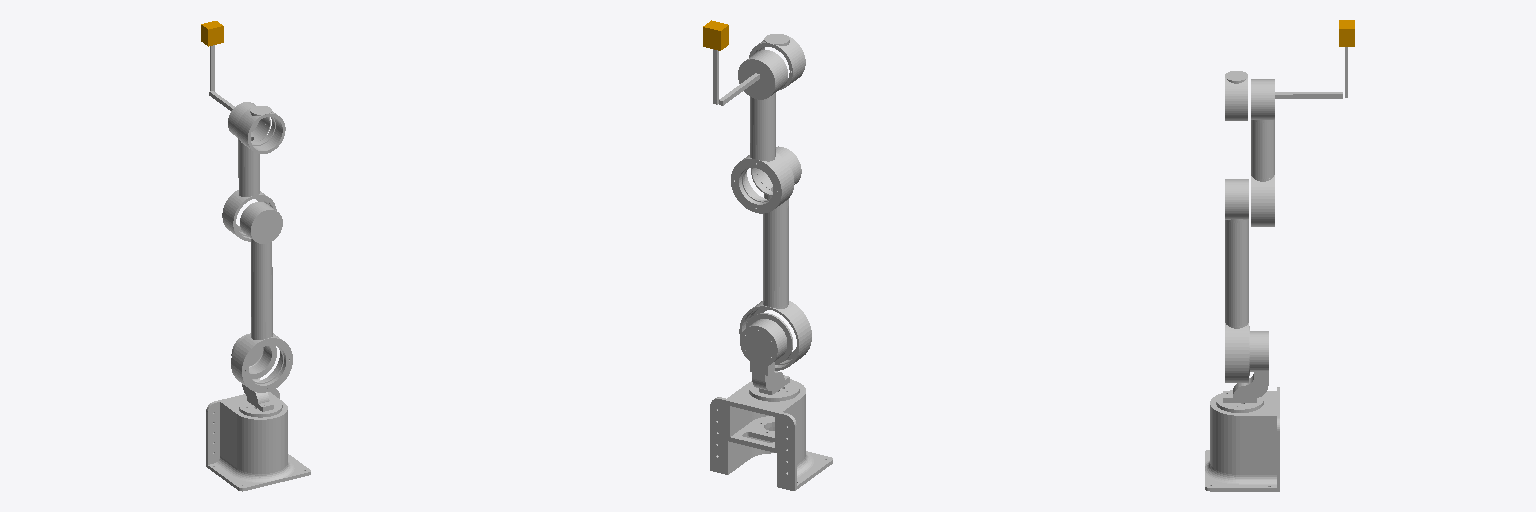
URDF robot description (rover_arm):
<?xml version="1.0"?>
<robot name="rover_arm">
  <material name="mat_silver">
    <color rgba="0.8 0.8 0.8 1"/>
  </material>

  <link name="world" />
  <link name="base_link">
    <visual>
      <origin xyz="0 0 0.08" rpy="0 0 0"/>
      <geometry>
        <mesh filename="../meshes/base_link.stl" scale="1 1 1"/>
      </geometry>
      <material name="mat_silver"/>
    </visual>
    <collision>
      <origin xyz="0 0 0.1" rpy="0 0 0" />
      <geometry>
        <box size="0.16 0.16 0.17" />
      </geometry>
    </collision>
    <inertial>
      <mass value="100"/>
      <inertia ixx="0.4542" ixy="0.0" ixz="0.0" iyy="0.4542" iyz="0.0" izz="0.4267"/>
    </inertial>
  </link>

  <link name="link1">
    <visual>
      <origin xyz="0 0 -0.1" rpy="0 0 0 " />
      <geometry>
         <mesh filename="../meshes/link_1.stl" scale="1 1 1"/>
      </geometry>
      <material name="mat_silver" />
    </visual>
    <collision>
      <origin xyz="0 0.023 0.105" rpy="0 0 0" />
      <geometry>
       <box size="0.1 0.05 0.155" />
      </geometry>
    </collision>
    <inertial>
      <mass value="1"/>
      <inertia ixx="0.0022" ixy="0.0" ixz="0.0" iyy="0.0028" iyz="0.0" izz="0.0001"/>
    </inertial>
  </link>

  <link name="link2">
    <visual>
      <origin xyz="0 0 -0.22" rpy="0 0 0" />
      <geometry>
        <mesh filename="../meshes/link_2.stl" scale="1 1 1"/>
     </geometry>
     <material name="mat_silver" />
    </visual>
    <collision>
      <origin xyz="0 -0.03 0.155" rpy="0 0 0" />
      <geometry>
       <box size="0.1 0.04 0.45" />
     </geometry>
    </collision>
    <inertial>
     <mass value="1"/>
     <inertia ixx="0.017" ixy="0.0" ixz="0.0" iyy="0.0177" iyz="0.0" izz="0.001"/>
   </inertial>
  </link>
 <link name="link3">
    <visual>
        <origin xyz="0 0 -0.565" rpy="0 0 0" />
        <geometry>
          <mesh filename="../meshes/link_3.stl" scale="1 1 1"/>
       </geometry>
       <material name="mat_silver" />
      </visual>
    <collision>
      <origin xyz="0.01 0.036 0.115" rpy="0 0 0" />
      <geometry>
        <box size="0.12 0.04 0.32" />
      </geometry>
    </collision>
    <inertial>
      <mass value="1"/>
      <inertia ixx="0.0087" ixy="0.0" ixz="0.0" iyy="0.0097" iyz="0.0" izz="0.0013"/>
    </inertial>
  </link>
  <link name="link4">

    <visual>
        <origin xyz="0 0 -0.8" rpy="0 0 0" />
        <geometry>
          <mesh filename="../meshes/link_4.stl" scale="1 1 1"/>
       </geometry>
       <material name="mat_silver" />
      </visual>
    <collision>
      <origin xyz="0.01 -0.022 0" rpy="0 0 0" />
      <geometry>
        <box size="0.1 0.06 0.08" />
      </geometry>
    </collision>
    <inertial>
      <mass value="1"/>
      <inertia ixx="0.0008" ixy="0.0" ixz="0.0" iyy="0.0014" iyz="0.0" izz="0.0011"/>
    </inertial>
  </link>
  <link name="link5">
    <visual>
        <origin xyz="0 0 -0.85" rpy="0 0 0" />
        <geometry>
          <mesh filename="../meshes/link_5.stl" scale="1 1 1"/>
       </geometry>
       <material name="mat_silver" />
      </visual>
    <collision>
      <origin xyz="0.01 -0.02 0.1" rpy="0 0 0" />
      <geometry>
        <box size="0.2 0.06 0.12" />
      </geometry>
    </collision>
    <inertial>
      <mass value="1"/>
      <inertia ixx="0.0015" ixy="0.0" ixz="0.0" iyy="0.0045" iyz="0.0" izz="0.0036"/>
    </inertial>
  </link>
  <link name="extender">
    <visual>
        <origin xyz="0.00193 0.133 0" rpy="0 0 -1.57" />
        <geometry>
          <box size="0.146 0.01 0.01"/>
      </geometry>
      <material name="mat_silver" />
      </visual>
      <visual>
        <origin xyz="0.0085 0.2125 0.0725" rpy="0 1.5707 0" />
        <geometry>
          <box size="0.146 0.007 0.01"/>
      </geometry>
      <material name="mat_silver" />
      </visual>
      <collision>
        <origin xyz="0.00193 0.133 0" rpy="0 0 -1.57" />
        <geometry>
          <box size="0.146 0.01 0.01"/>
      </geometry>
      </collision>
      <collision>
        <origin xyz="-0.173 0.213 0" rpy="0 0 0" />
        <geometry>
          <box size="0.363 0.007 0.01"/>
      </geometry>
      </collision>
      <inertial>
        <mass value="0.01"/>
        <inertia ixx="0.0015" ixy="0.0" ixz="0.0" iyy="0.0045" iyz="0.0" izz="0.0036"/>
      </inertial>

  </link>


  <link name="camera_link">
    <visual>
      <origin xyz="0.0085 0.213 0.146" rpy="0 0 0" />
      <geometry>
        <box size="0.04 0.034 0.043"/>
     </geometry>

    </visual>
    <collision>
      <origin xyz="-0.383 0.213 0.35" rpy="0 0 0" />
      <geometry>
        <box size="0.04 0.034 0.043"/>
     </geometry>
    </collision>
    <inertial>
      <mass value="0"/>
      <inertia ixx="0.0" ixy="0.0" ixz="0.0" iyy="0.0" iyz="0.0" izz="0.0"/>
    </inertial>
  </link>

 <joint name="extender_joint" type="fixed">
    <parent link="link4" />
    <child link="extender" />
    <origin xyz="0 0 0" rpy="0 0 0" />
  </joint>

  <joint name="camera_joint" type="fixed">
    <parent link="extender" />
    <child link="camera_link" />
    <origin xyz="0 0 0" rpy="0 0 0" />
  </joint>



  <joint name="base_joint" type="fixed">
    <parent link="world" />
    <child link="base_link" />
    <origin xyz="0 0 0" rpy="0 0 0" />
  </joint>


  <joint name="joint1" type="continuous">
    <parent link="base_link" />
    <child link="link1" />
    <origin xyz="0 0 0.18" rpy="0 0 0" />
   <axis xyz="0 0 1" />
  </joint>

  <joint name="joint2" type="revolute">
    <parent link="link1" />
    <child link="link2" />
    <origin xyz="0 0 0.12" rpy="0 0 0" />
    <axis xyz="0 1 0" />
    <limit lower="-1.5707" upper="1.5707" velocity="100" effort="100" />
  </joint>

  <joint name="joint3" type="revolute">
      <parent link="link2" />
      <child link="link3" />
      <origin xyz="0 0 0.345" rpy="0 0 0" />
      <axis xyz="0 1 0" />
      <limit lower="-1.5707" upper="1.5707" velocity="100" effort="100" />
  </joint>
  <joint name="joint4" type="revolute">
    <parent link="link3" />
    <child link="link4" />
    <origin xyz="0 0 0.24" rpy="0 0 0" />
    <axis xyz="0 1 0" />
    <limit lower="-1.5707" upper="1.5707" velocity="100" effort="100" />
</joint>
<joint name="joint5" type="revolute">
    <parent link="link4" />
    <child link="link5" />
    <origin xyz="0 0 0.05" rpy="0 0 0" />
    <axis xyz="0 0 1" />
    <limit lower="-1.5707" upper="1.5707" velocity="100" effort="100" />
</joint>



  <transmission name="tran1">
    <type>transmission_interface/SimpleTransmission</type>
    <joint name="joint1">
      <hardwareInterface>hardware_interface/EffortJointInterface</hardwareInterface>
    </joint>
    <actuator name="motor1">
      <hardwareInterface>hardware_interface/EffortJointInterface</hardwareInterface>
      <mechanicalReduction>1</mechanicalReduction>
    </actuator>
  </transmission>

  <transmission name="tran2">
    <type>transmission_interface/SimpleTransmission</type>
    <joint name="joint2">
      <hardwareInterface>hardware_interface/EffortJointInterface</hardwareInterface>
    </joint>
    <actuator name="motor2">
      <hardwareInterface>hardware_interface/EffortJointInterface</hardwareInterface>
      <mechanicalReduction>1</mechanicalReduction>
    </actuator>
  </transmission>

  <transmission name="tran3">
    <type>transmission_interface/SimpleTransmission</type>
    <joint name="joint3">
      <hardwareInterface>hardware_interface/EffortJointInterface</hardwareInterface>
    </joint>
    <actuator name="motor3">
      <hardwareInterface>hardware_interface/EffortJointInterface</hardwareInterface>
      <mechanicalReduction>1</mechanicalReduction>
    </actuator>
  </transmission>


  <transmission name="tran4">
    <type>transmission_interface/SimpleTransmission</type>
    <joint name="joint4">
      <hardwareInterface>hardware_interface/EffortJointInterface</hardwareInterface>
    </joint>
    <actuator name="motor4">
      <hardwareInterface>hardware_interface/EffortJointInterface</hardwareInterface>
      <mechanicalReduction>1</mechanicalReduction>
    </actuator>
  </transmission>
  <transmission name="tran5">
    <type>transmission_interface/SimpleTransmission</type>
    <joint name="joint5">
      <hardwareInterface>hardware_interface/EffortJointInterface</hardwareInterface>
    </joint>
    <actuator name="motor5">
      <hardwareInterface>hardware_interface/EffortJointInterface</hardwareInterface>
      <mechanicalReduction>1</mechanicalReduction>
    </actuator>
  </transmission>

  <gazebo reference="camera_link">
    <sensor type="camera" name="arm_camera">
      <update_rate>30.0</update_rate>
      <camera name="head">
        <horizontal_fov>1.3962634</horizontal_fov>
        <image>
          <width>800</width>
          <height>800</height>
          <format>R8G8B8</format>
        </image>
        <clip>
          <near>0.02</near>
          <far>300</far>
        </clip>
        <noise>
          <type>gaussian</type>
          <mean>0.0</mean>
          <stddev>0.007</stddev>
        </noise>
      </camera>
      <plugin name="camera_controller" filename="libgazebo_ros_camera.so">
        <alwaysOn>true</alwaysOn>
        <updateRate>0.0</updateRate>
        <cameraName>/arm_camera</cameraName>
        <imageTopicName>image_raw</imageTopicName>
        <cameraInfoTopicName>camera_info</cameraInfoTopicName>
        <frameName>camera_link</frameName>
        <hackBaseline>0.07</hackBaseline>
        <distortionK1>0.0</distortionK1>
        <distortionK2>0.0</distortionK2>
        <distortionK3>0.0</distortionK3>
        <distortionT1>0.0</distortionT1>
        <distortionT2>0.0</distortionT2>
      </plugin>
    </sensor>
  </gazebo>
  <gazebo>
    <plugin name="gazebo_ros_control" filename="libgazebo_ros_control.so">
      <robotNamespace>/</robotNamespace>
    </plugin>
  </gazebo>



</robot>

--- What the picture shows (computed from the rendered views, not written in the file) ---
3 views of the same robot in one strip: view 1: azimuth 30°, elevation 25°; view 2: azimuth 150°, elevation 25°; view 3: azimuth 270°, elevation 25° (orthographic).
Model rover_arm with 9 links and 8 joints (4 revolute, 1 continuous, 3 fixed), rooted at world, posed all joints at 0.
Visible links, largest first — view 1: base_link, link2, link3, link1, link4; view 2: base_link, link3, link2, link1, link4, extender, camera_link; view 3: base_link, link2, link3, link1, link4, extender.
Link boxes in pixels (box(x1,y1,x2,y2)): base_link: box(206, 389, 310, 491); link2: box(231, 202, 292, 392); link3: box(222, 102, 276, 241); link1: box(231, 334, 282, 417); link4: box(237, 106, 285, 153); base_link: box(710, 381, 832, 490); link3: box(731, 50, 794, 213); link2: box(739, 146, 811, 370); link1: box(740, 313, 799, 401); link4: box(749, 34, 805, 90); extender: box(713, 49, 759, 105); camera_link: box(703, 20, 728, 50); base_link: box(1205, 387, 1279, 491); link2: box(1225, 179, 1248, 382); link3: box(1251, 79, 1274, 226); link1: box(1216, 326, 1268, 412); link4: box(1225, 71, 1247, 120); extender: box(1275, 47, 1347, 98).
Size in the robot's own frame: 0.19 by 0.314 by 1.04 metres.
Meshes: 6 distinct files referenced, 5 mesh visuals loaded (5 binary STL); not drawn: 1 (reference not matched to a file when rendering).
